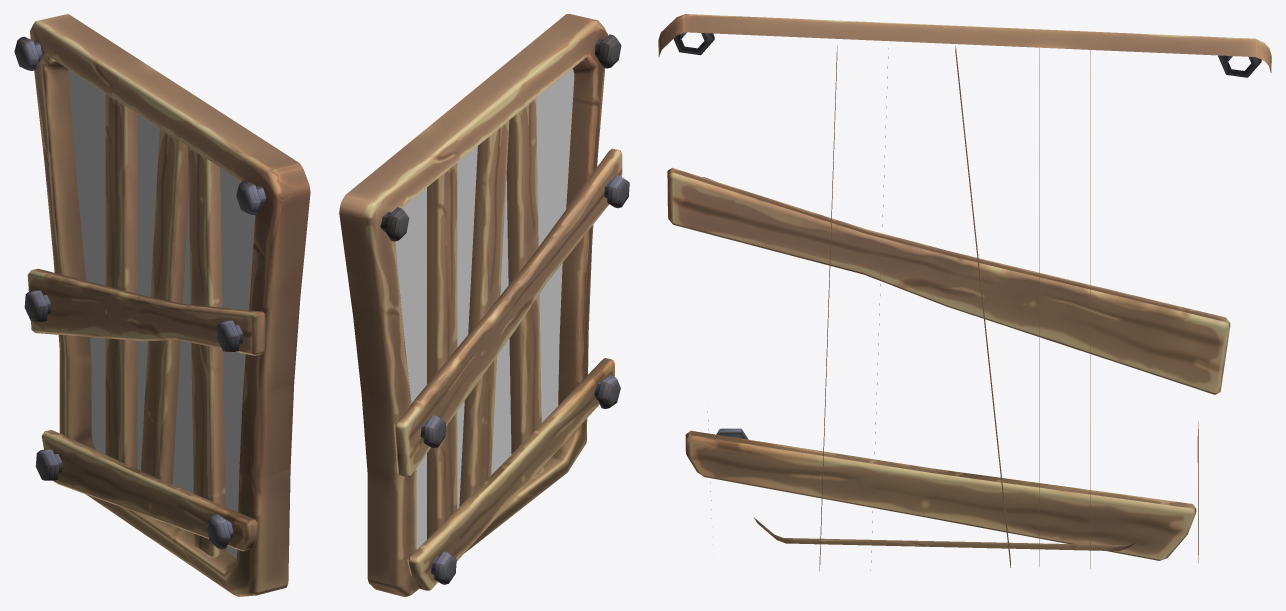
File: SM_Window_01.gltf
3 views of the same model, side by side, from view 1: azimuth 30°, elevation 25°; view 2: azimuth 150°, elevation 25°; view 3: azimuth 270°, elevation 25° (orthographic). The views are drawn at different scales.
Parts seen in each view (by area): view 1: SM_Window_01_LOD0; view 2: SM_Window_01_LOD0; view 3: SM_Window_01_LOD0.
Boxes of the visible parts, x1,y1,x2,y2 form: SM_Window_01_LOD0: (14,14,310,596); SM_Window_01_LOD0: (339,14,629,596); SM_Window_01_LOD0: (658,14,1271,570).
Size of what is drawn, in the model's own units: 0.1885 by 1.2 by 1.18.
2 materials, 1 textured.
